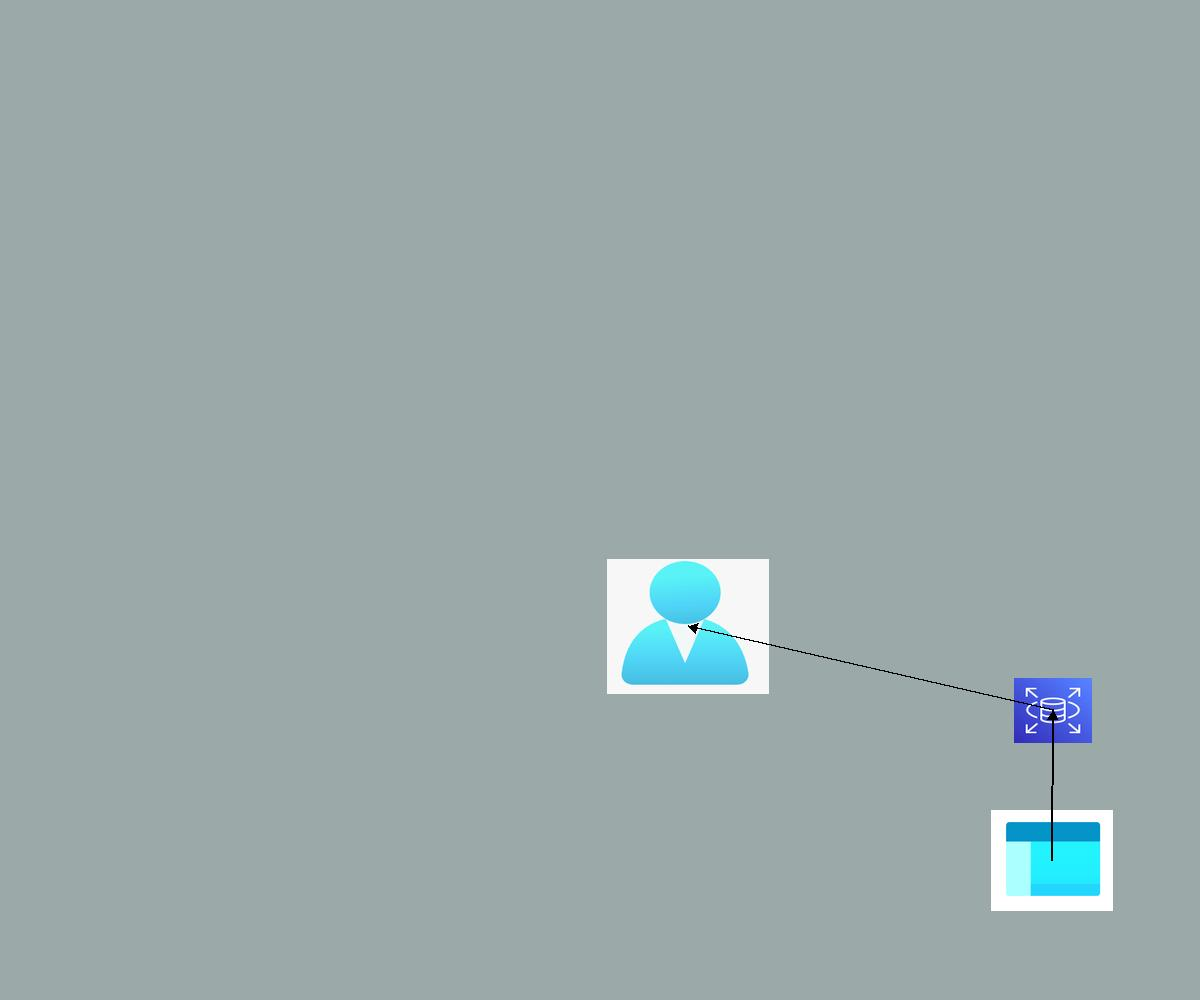AWS-RDS: (1014, 678, 1092, 743)
Azure_management-portal: (991, 810, 1113, 911)
Azure_users: (607, 559, 769, 694)
